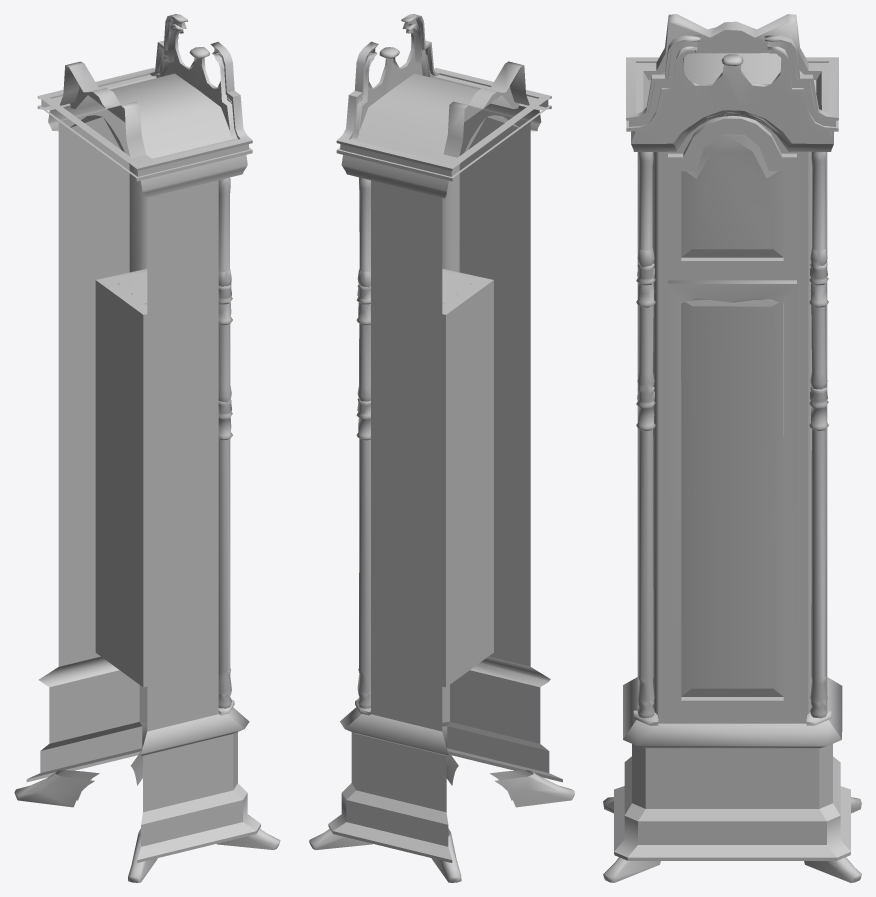
The model's file is grandClock_LOD1.fbx.
The picture shows the model from 3 angles, left to right: view 1: azimuth 30°, elevation 25°; view 2: azimuth 150°, elevation 25°; view 3: azimuth 270°, elevation 25°; orthographic projection. The views are drawn at different scales.
Parts seen in each view (by area): view 1: clock_LOD1; view 2: clock_LOD1; view 3: clock_LOD1.
Boxes of the visible parts, left/top/right/bottom form: clock_LOD1: left=14, top=14, right=280, bottom=882; clock_LOD1: left=309, top=14, right=574, bottom=882; clock_LOD1: left=603, top=14, right=861, bottom=882.
Size of the model in its own units: 37.92 by 187 by 52.51.
